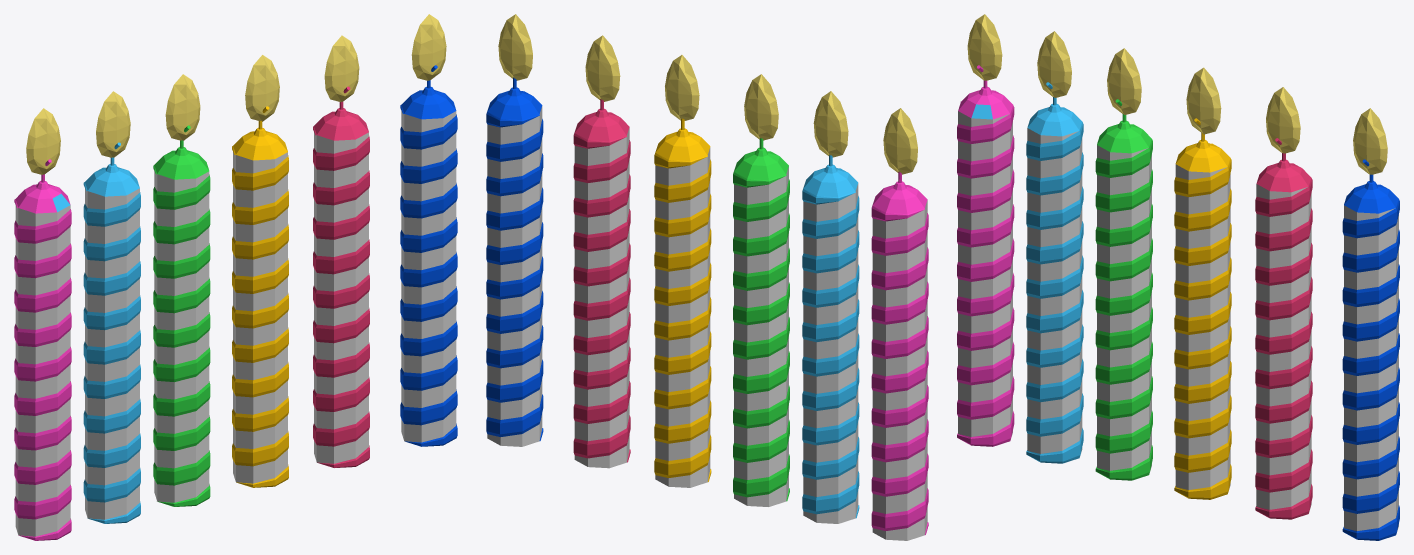
Rendered from birthday candle.gltf.
3 renders of one model, left to right at view 1: azimuth 30°, elevation 25°; view 2: azimuth 150°, elevation 25°; view 3: azimuth 330°, elevation 25°, orthographic.
Parts seen in each view (by area): view 1: node-0; view 2: node-0; view 3: node-0.
Boxes of the visible parts, x1,y1,x2,y2 form: node-0: (14, 14, 457, 540); node-0: (486, 14, 928, 540); node-0: (957, 14, 1399, 540).
Size of the model in its own units: 13.27 by 12.24 by 1.56.
